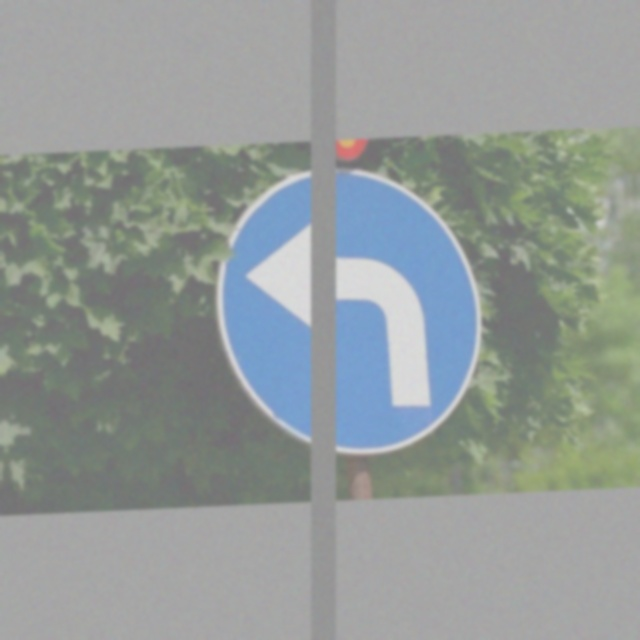Compulsory_Turn_Left_Ahead: (209, 162, 485, 455)
